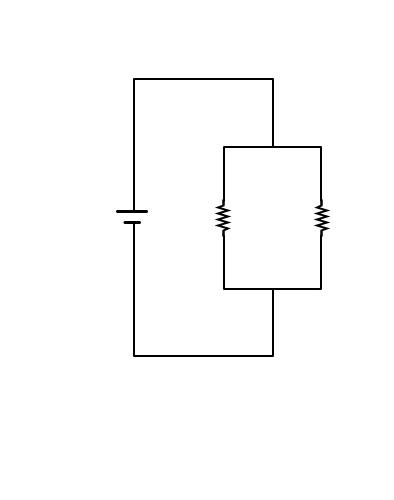resistor: (303, 194, 346, 257), (208, 194, 246, 247)
